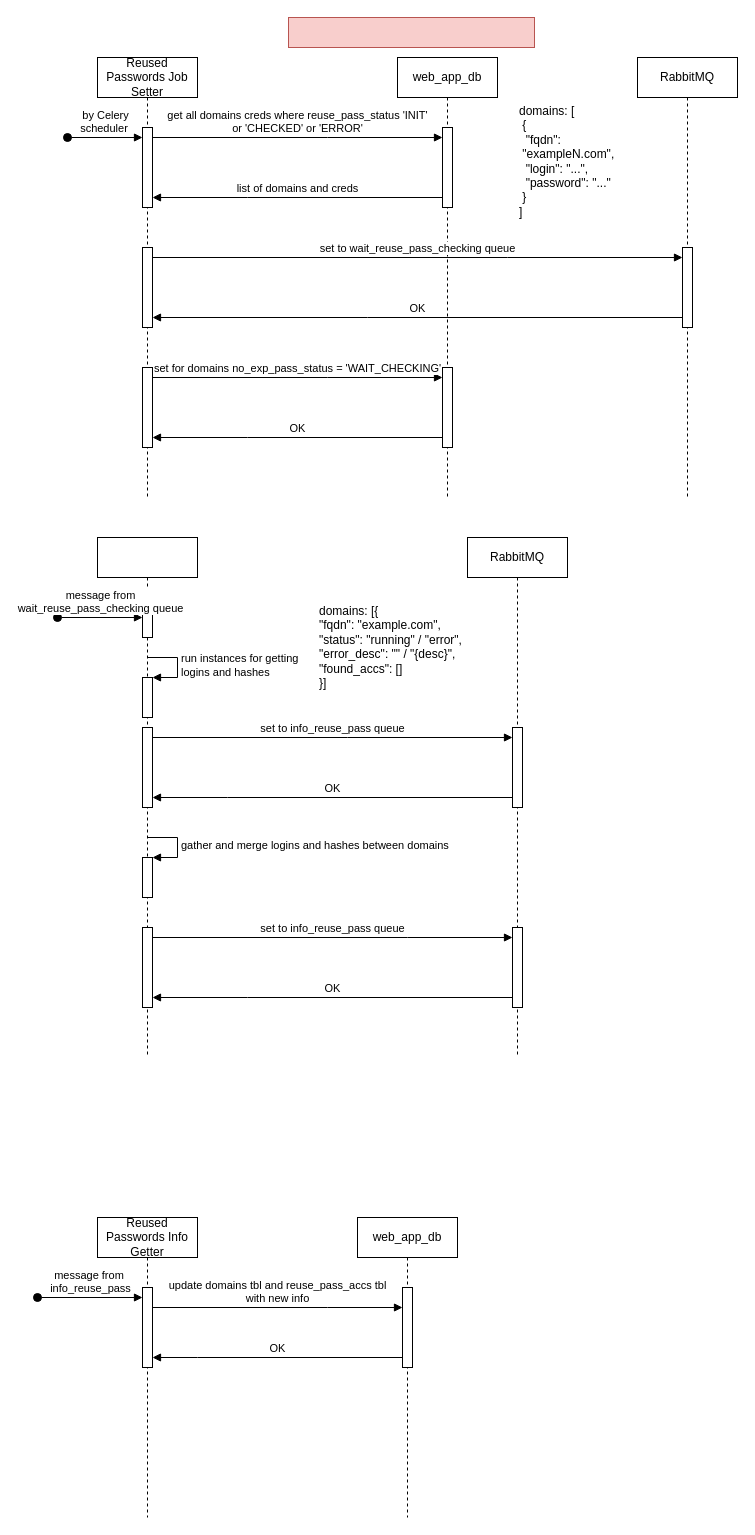
Some shapes in this 755 by 1535 pixel diagram are drawn without their labels. Each missing label, with the centre of its shape:
"Reused Passwords Job Runner" goes at [147,797].
"The diagram is not up-to-date. It was left for history as an artefact." goes at [411,32].
